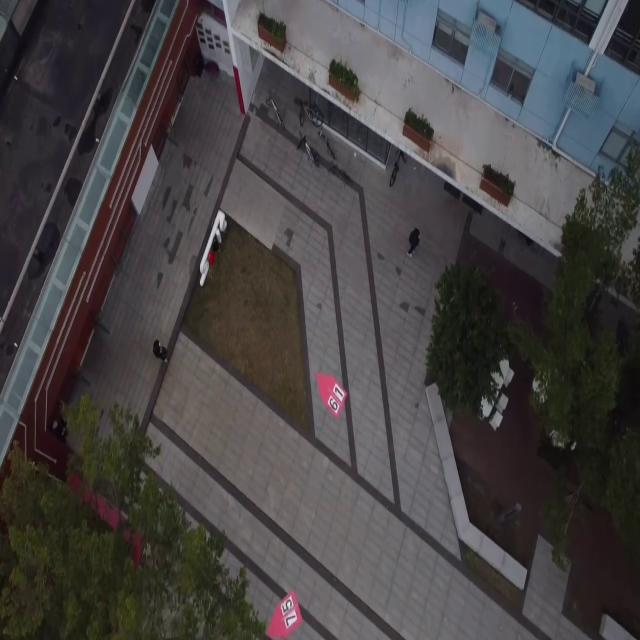-sign-: (267, 589, 302, 638), (316, 370, 348, 420)
